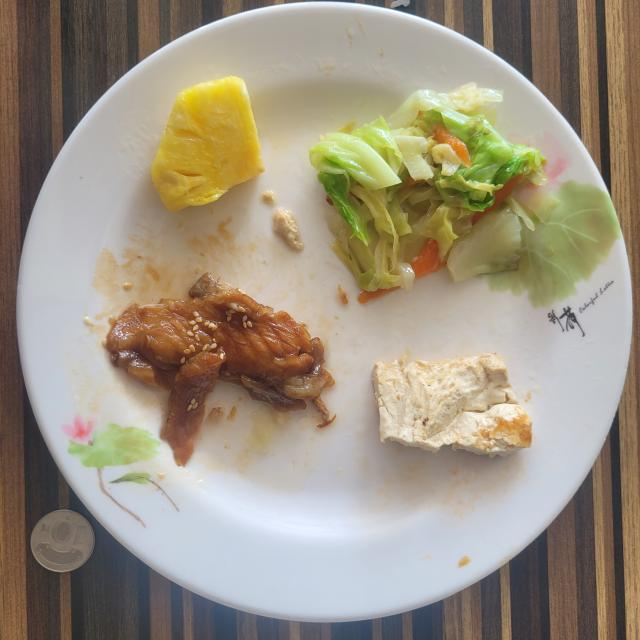Kabayaki sea bream fillet: (105, 272, 334, 466)
cabbage: (310, 82, 546, 300)
coin: (31, 510, 95, 572)
pineapple: (151, 76, 264, 211)
